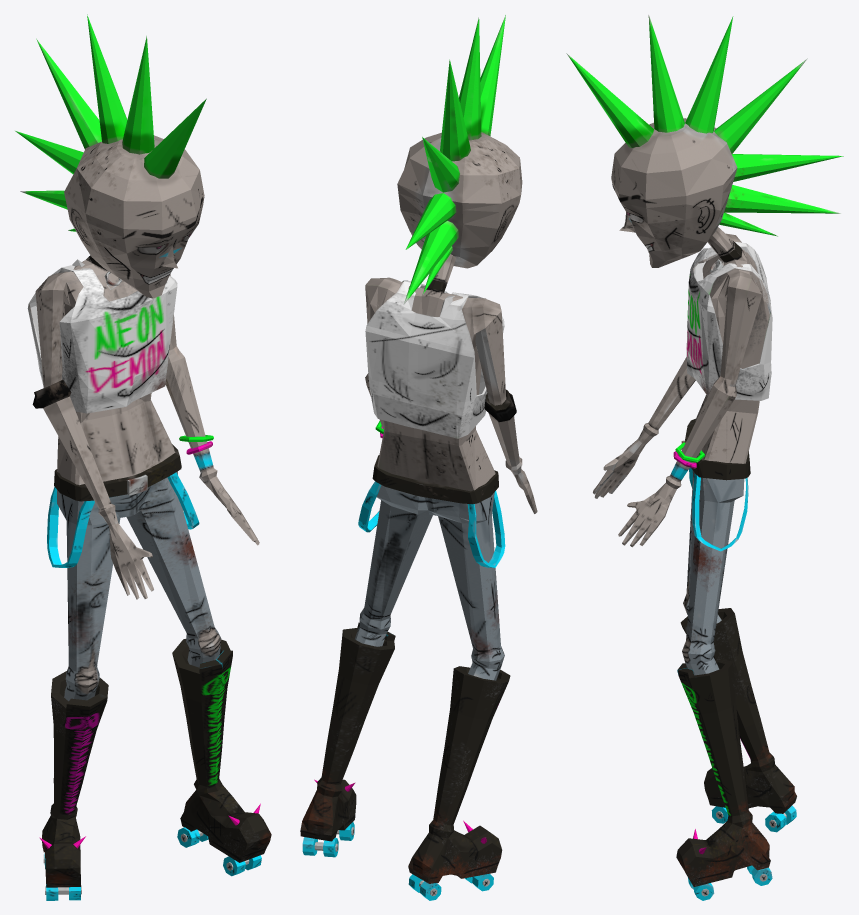
File: punkAnimation_000030.obj
The picture shows the model from 3 angles, left to right: view 1: azimuth 30°, elevation 25°; view 2: azimuth 150°, elevation 25°; view 3: azimuth 270°, elevation 25°; orthographic projection. The views are drawn at different scales.
Visible parts, largest first — view 1: Cube.004_Cube.003; view 2: Cube.004_Cube.003; view 3: Cube.004_Cube.003.
Boxes of the visible parts, x1,y1,x2,y2 form: Cube.004_Cube.003: [15, 14, 271, 900]; Cube.004_Cube.003: [300, 15, 537, 900]; Cube.004_Cube.003: [566, 15, 843, 900].
Bounding box in the file's own units: 1.96 × 7.49 × 2.3.
